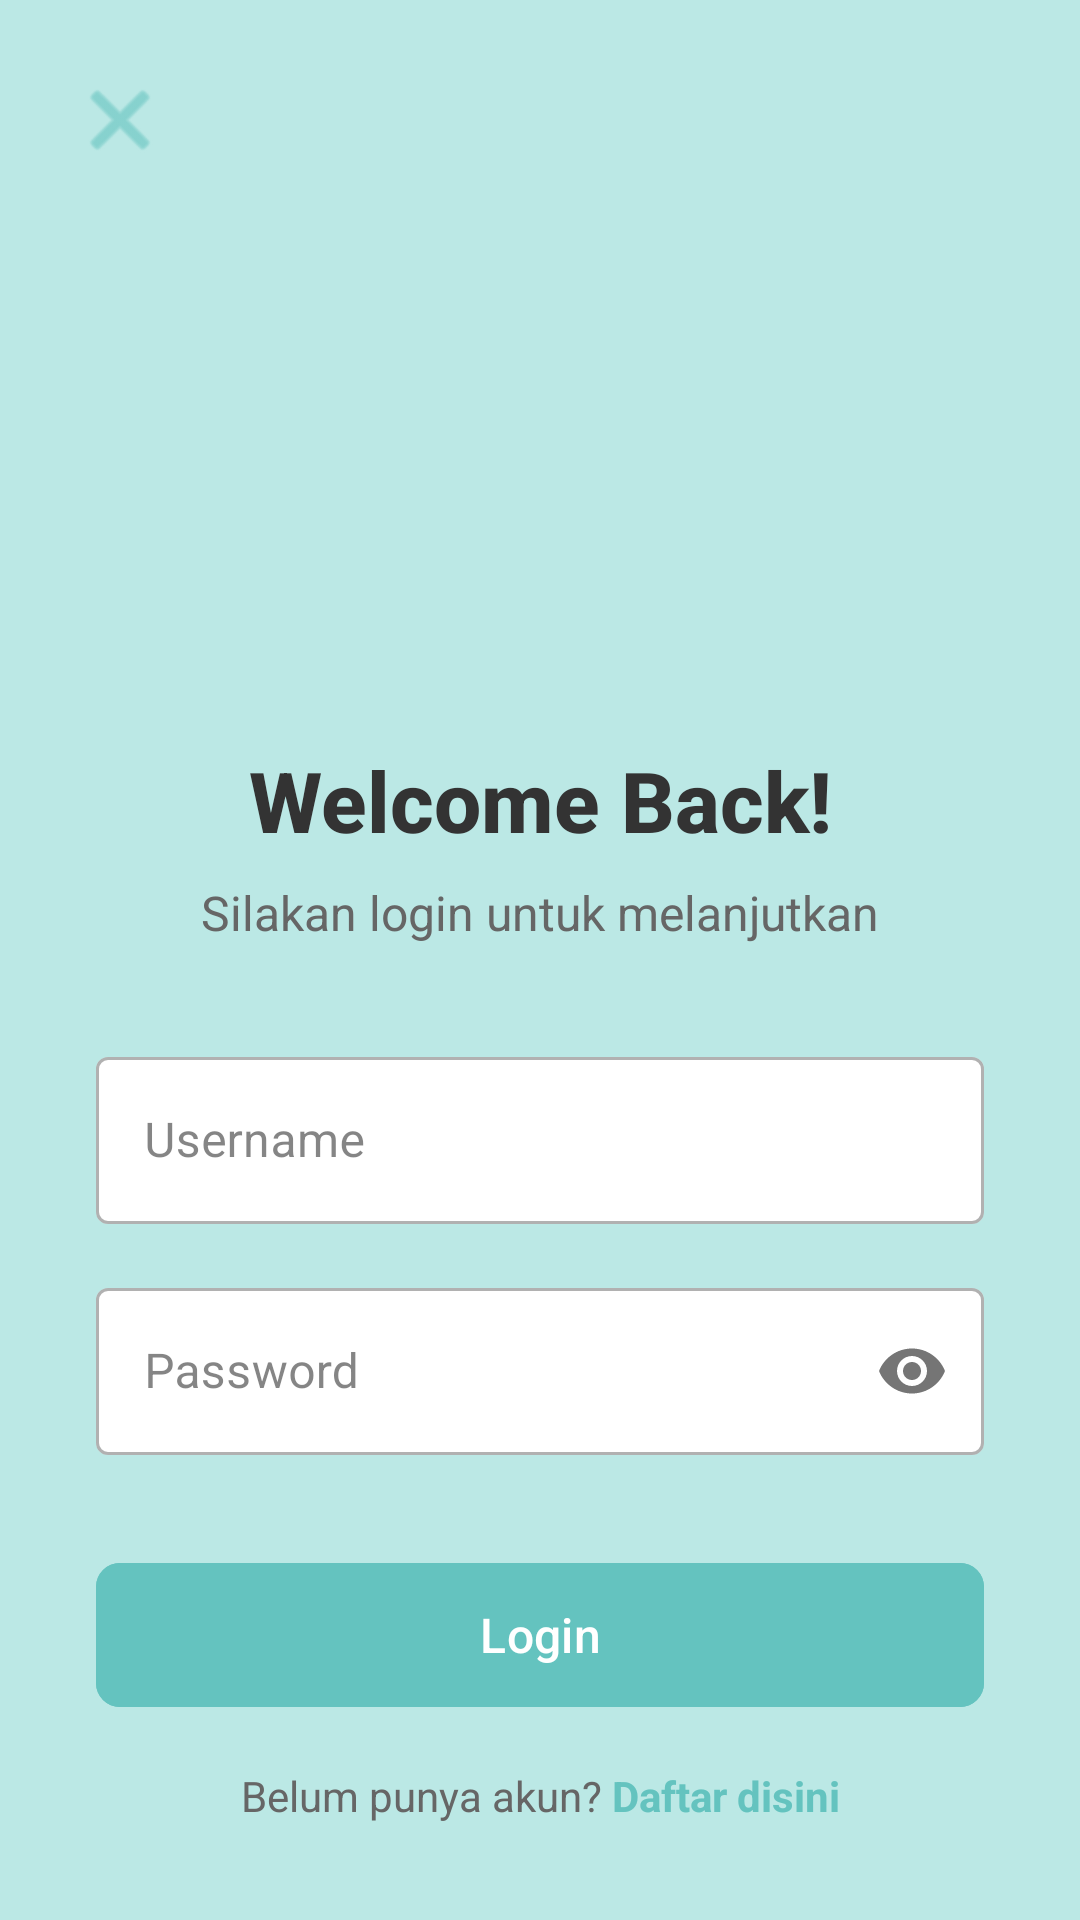

Icons on this 1080px×1920px Android screen, each with the point to tap as [x,y]:
Kembali: [120,120]
